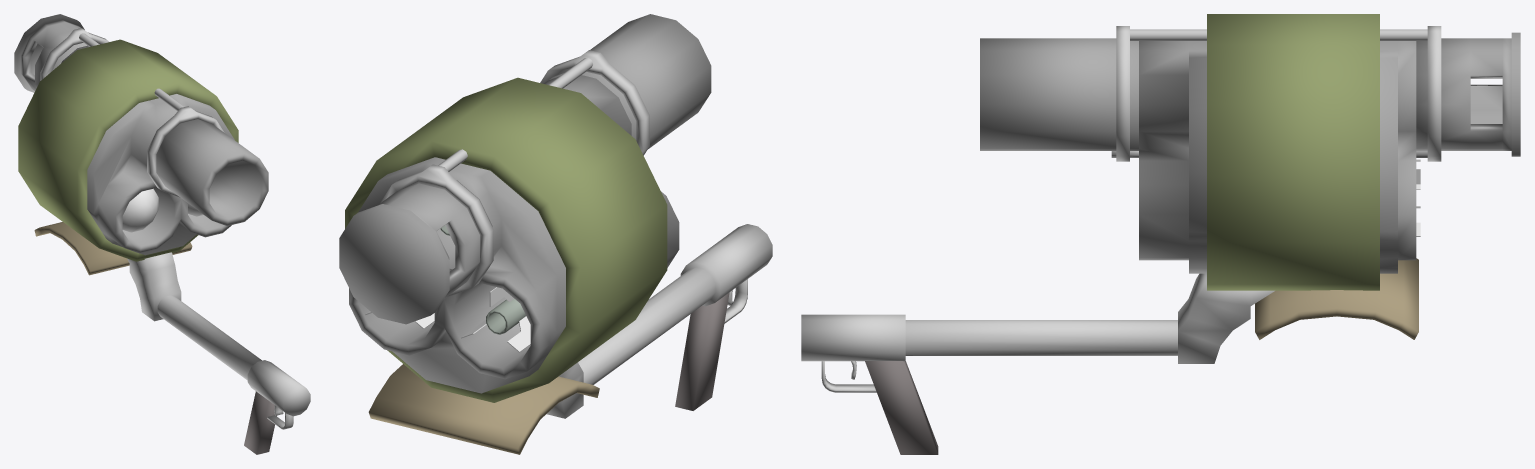
Rendered from minimal_launcher2.fbx.
The picture shows the model from 3 angles, left to right: view 1: azimuth 30°, elevation 25°; view 2: azimuth 150°, elevation 25°; view 3: azimuth 270°, elevation 25°; orthographic projection. The views are drawn at different scales.
Parts seen in each view (by area): view 1: loader, chambers, barrel, handle, relief, shoulder_pad, missile_2.006; view 2: loader, chambers, relief, handle, barrel, shoulder_pad, missile_2.006; view 3: loader, handle, chambers, barrel, relief, shoulder_pad.
Boxes of the visible parts, <box> form: loader: <box>18,39,238,261</box>; chambers: <box>61,45,234,255</box>; barrel: <box>147,88,268,225</box>; handle: <box>127,252,310,454</box>; relief: <box>14,14,109,92</box>; shoulder_pad: <box>34,222,192,275</box>; missile_2.006: <box>122,188,158,232</box>; loader: <box>345,77,667,402</box>; chambers: <box>349,75,679,393</box>; relief: <box>339,149,493,324</box>; handle: <box>546,224,772,418</box>; barrel: <box>540,14,711,155</box>; shoulder_pad: <box>368,364,599,454</box>; missile_2.006: <box>461,287,530,352</box>; loader: <box>1207,14,1379,290</box>; handle: <box>801,273,1274,454</box>; chambers: <box>1139,41,1416,273</box>; barrel: <box>980,26,1206,161</box>; relief: <box>1380,26,1520,161</box>; shoulder_pad: <box>1255,258,1418,339</box>.
Size of the model in its own units: 597 by 1024 by 1583.
